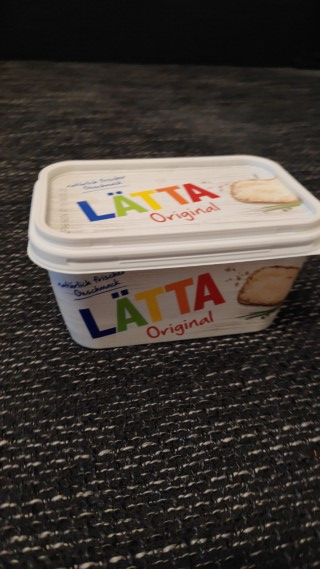laetta: (27, 153, 320, 350)
